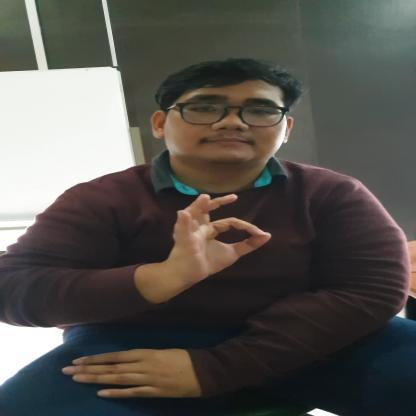O: (172, 192, 278, 280)
